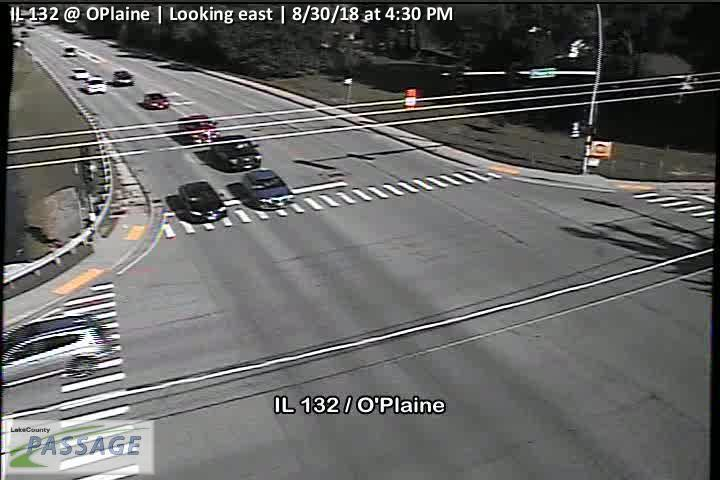SUV: (1, 315, 113, 393)
Sedan: (243, 167, 295, 210), (178, 180, 228, 224), (207, 135, 265, 172), (177, 114, 220, 146), (142, 91, 171, 108), (83, 75, 108, 94), (112, 68, 134, 85), (69, 66, 89, 79)
